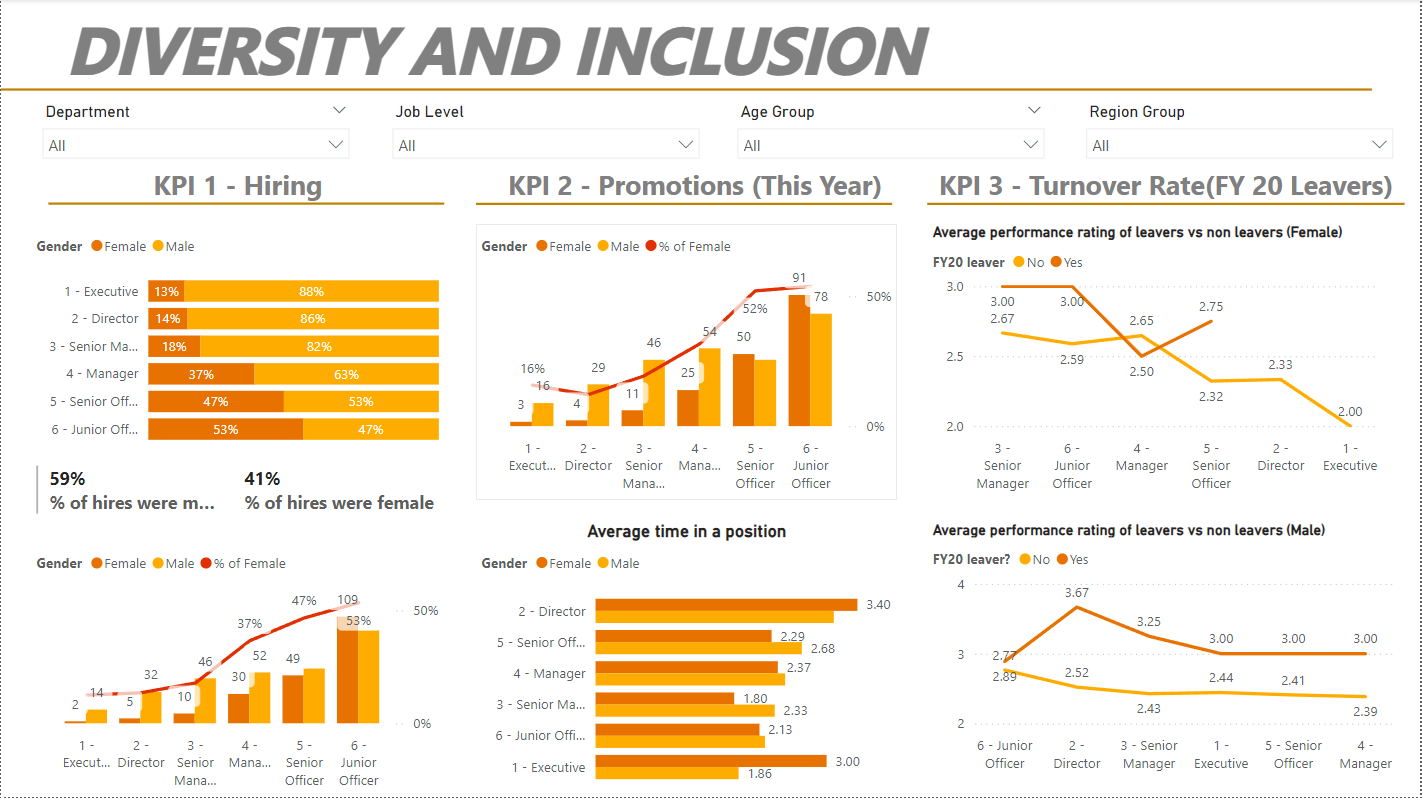

This screenshot's page, from the dashboard's own definition file:
{"tool":"powerbi","page":{"name":"Page 1","canvas":[1280,720],"ordinal":0},"visuals":[{"type":"textbox","box":[9.8,0,869.4,88],"z":0},{"type":"slicer","fields":{"Values":["Pharma Group AG.Department @01.07.2020"]},"box":[26.9,88,297.1,58.7],"z":1000},{"type":"slicer","fields":{"Values":["Pharma Group AG.Region group: nationality 1"]},"box":[968.5,88,297.1,58.7],"z":2000},{"type":"slicer","fields":{"Values":["Pharma Group AG.Job Level after FY20 promotions"]},"box":[342.4,88,297.1,58.7],"z":3000},{"type":"slicer","fields":{"Values":["Pharma Group AG.Age group"]},"box":[654.2,88,297.1,58.7],"z":4000},{"type":"hundredPercentStackedBarChart","title":"Hiring","fields":{"Category":["Pharma Group AG.Job Level after FY20 promotions"],"Y":["CountNonNull(Pharma Group AG.Employee ID)"],"Series":["Pharma Group AG.Gender"]},"box":[26.9,203,373,210.3],"z":5000},{"type":"lineClusteredColumnComboChart","fields":{"Category":["Pharma Group AG.Job Level after FY20 promotions"],"Y":["CountNonNull(Pharma Group AG.Employee ID)"],"Series":["Pharma Group AG.Gender"],"Y2":["Pharma Group AG.% of Female"]},"box":[26.9,489.1,373,231.1],"z":6000},{"type":"multiRowCard","fields":{"Values":["Pharma Group AG.% of Male","Pharma Group AG.% of Female"]},"box":[26.9,415.8,373,73.4],"z":7000},{"type":"lineClusteredColumnComboChart","fields":{"Y":["CountNonNull(Pharma Group AG.Employee ID)"],"Series":["Pharma Group AG.Gender"],"Y2":["Pharma Group AG.% of Female"],"Category":["Pharma Group AG.Job Level after FY21 promotions"]},"box":[428,203,380.3,249.5],"z":7001},{"type":"clusteredBarChart","title":"Average time in a position","fields":{"Category":["Pharma Group AG.Job Level after FY20 promotions"],"Y":["Avg(Pharma Group AG.Time in Job Level @01.07.2020)"],"Series":["Pharma Group AG.Gender"]},"box":[428,470.8,380.3,249.5],"z":7002},{"type":"shape","box":[0,75.8,1236.3,12.2],"z":7003},{"type":"lineChart","title":"Average performance rating of leavers vs non leavers (Female)","fields":{"Category":["Pharma Group AG.Job Level after FY20 promotions"],"Y":["Avg(Pharma Group AG.FY19 Performance Rating)"],"Series":["Pharma Group AG.FY20 leaver?"]},"box":[835.2,203,415.8,249.5],"z":7004},{"type":"lineChart","title":"Average performance rating of leavers vs non leavers (Male)","fields":{"Category":["Pharma Group AG.Job Level after FY20 promotions"],"Y":["Avg(Pharma Group AG.FY19 Performance Rating)"],"Series":["Pharma Group AG.FY20 leaver?"]},"box":[835.2,470.8,430.4,249.5],"z":7005},{"type":"textbox","box":[26.9,146.7,373,56.3],"z":7006},{"type":"textbox","box":[428,146.7,395,56.3],"z":7007},{"type":"textbox","box":[835.2,146.7,430.4,56.3],"z":7008},{"type":"shape","box":[42.8,174.9,357.1,19.6],"z":7009},{"type":"shape","box":[428,165.1,375.4,40.4],"z":7010},{"type":"shape","box":[835.2,165.1,430.4,40.4],"z":7011}]}

Visuals, with their boxes in screenshot pixels (x1, y1, x2, y2), scaled from the page's 1280x720 canvas onto the 1423x798 screenshot:
textbox: locate(11, 0, 977, 98)
slicer - Pharma Group AG.Department @01.07.2020: locate(30, 98, 360, 163)
slicer - Pharma Group AG.Region group: nationality 1: locate(1077, 98, 1407, 163)
slicer - Pharma Group AG.Job Level after FY20 promotions: locate(381, 98, 711, 163)
slicer - Pharma Group AG.Age group: locate(727, 98, 1058, 163)
"Hiring" hundredPercentStackedBarChart: locate(30, 225, 445, 458)
lineClusteredColumnComboChart - Pharma Group AG.Job Level after FY20 promotions x CountNonNull(Pharma Group AG.Employee ID): locate(30, 542, 445, 797)
multiRowCard - Pharma Group AG.% of Male x Pharma Group AG.% of Female: locate(30, 461, 445, 542)
lineClusteredColumnComboChart - CountNonNull(Pharma Group AG.Employee ID) x Pharma Group AG.Gender: locate(476, 225, 899, 502)
"Average time in a position" clusteredBarChart: locate(476, 522, 899, 797)
shape: locate(0, 84, 1374, 98)
"Average performance rating of leavers vs non leavers (Female)" lineChart: locate(929, 225, 1391, 502)
"Average performance rating of leavers vs non leavers (Male)" lineChart: locate(929, 522, 1407, 797)
textbox: locate(30, 163, 445, 225)
textbox: locate(476, 163, 915, 225)
textbox: locate(929, 163, 1407, 225)
shape: locate(48, 194, 445, 216)
shape: locate(476, 183, 893, 228)
shape: locate(929, 183, 1407, 228)
